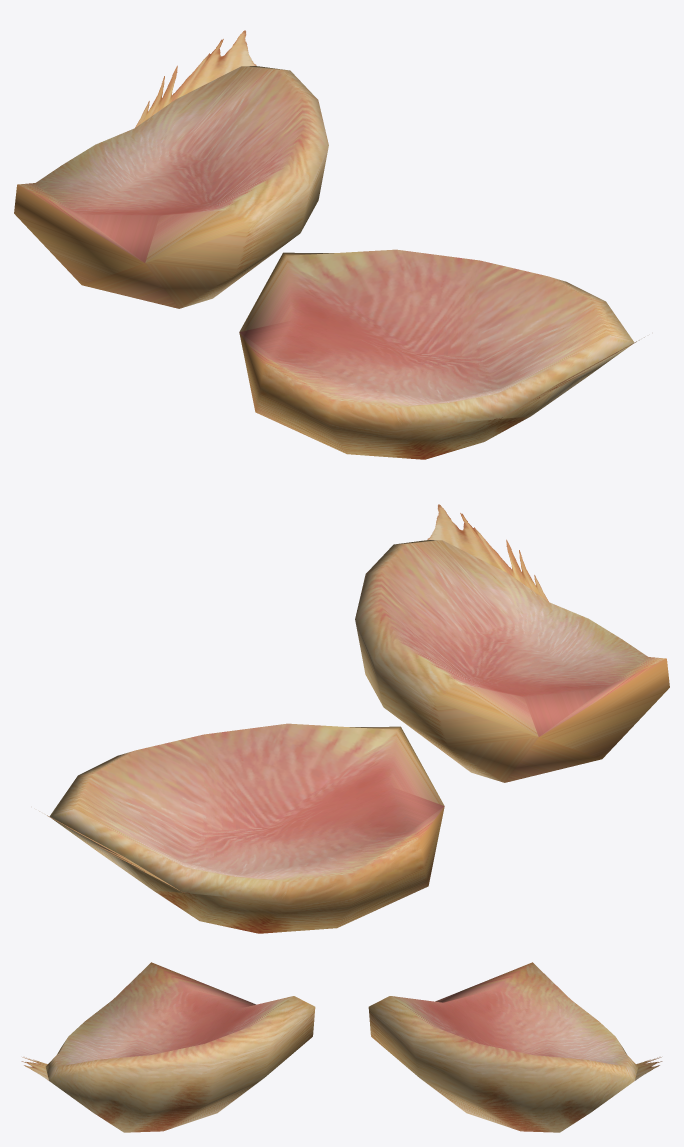
3 views of the same model, one above another, from view 1: azimuth 30°, elevation 25°; view 2: azimuth 150°, elevation 25°; view 3: azimuth 270°, elevation 25° (orthographic). The views are drawn at different scales.
Visible parts, largest first — view 1: G1201; view 2: G1201; view 3: G1201.
Boxes of the visible parts, left/top/right/bottom form: G1201: left=14, top=30, right=644, bottom=459; G1201: left=39, top=504, right=669, bottom=933; G1201: left=21, top=962, right=662, bottom=1132.
Bounding box in the file's own units: 0.2057 × 0.0905 × 0.4689.
